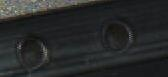joints: (95, 16, 135, 55), (14, 30, 49, 71)
